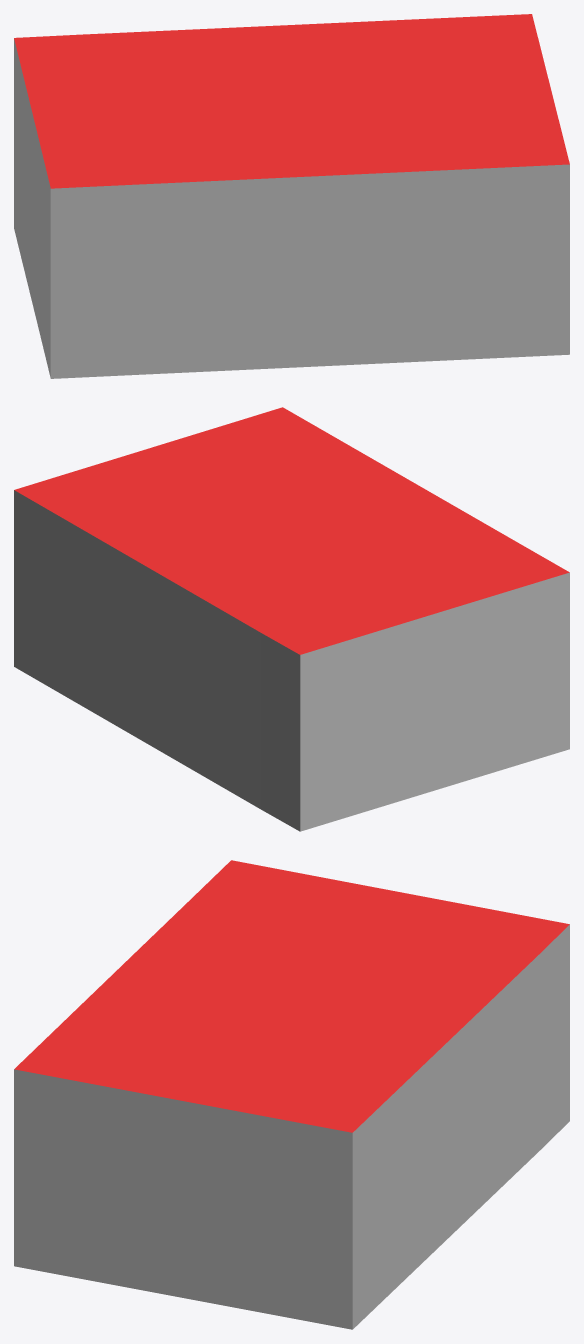
The model's file is DEBY_LOD2_4908137.dae.
3 views of the same model, one above another, from view 1: azimuth 30°, elevation 25°; view 2: azimuth 150°, elevation 25°; view 3: azimuth 270°, elevation 25° (orthographic). The views are drawn at different scales.
Bounding box in the file's own units: 9.62 × 8.29 × 3.24.
